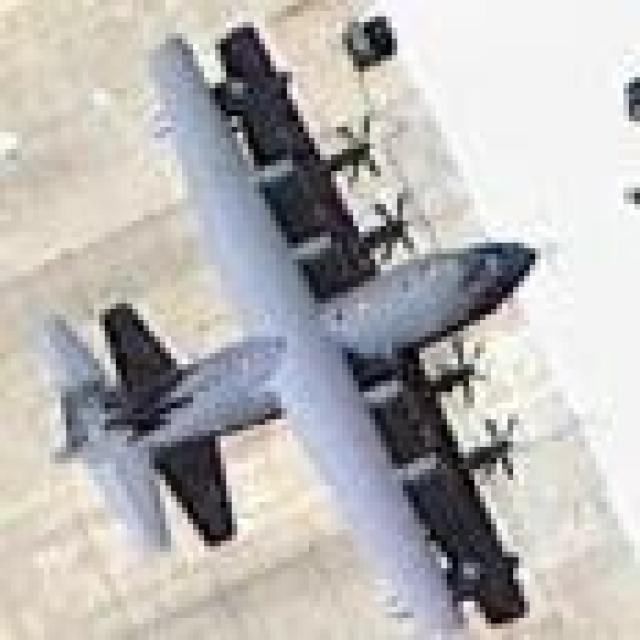C-130_TopDown: (26, 22, 541, 640)
